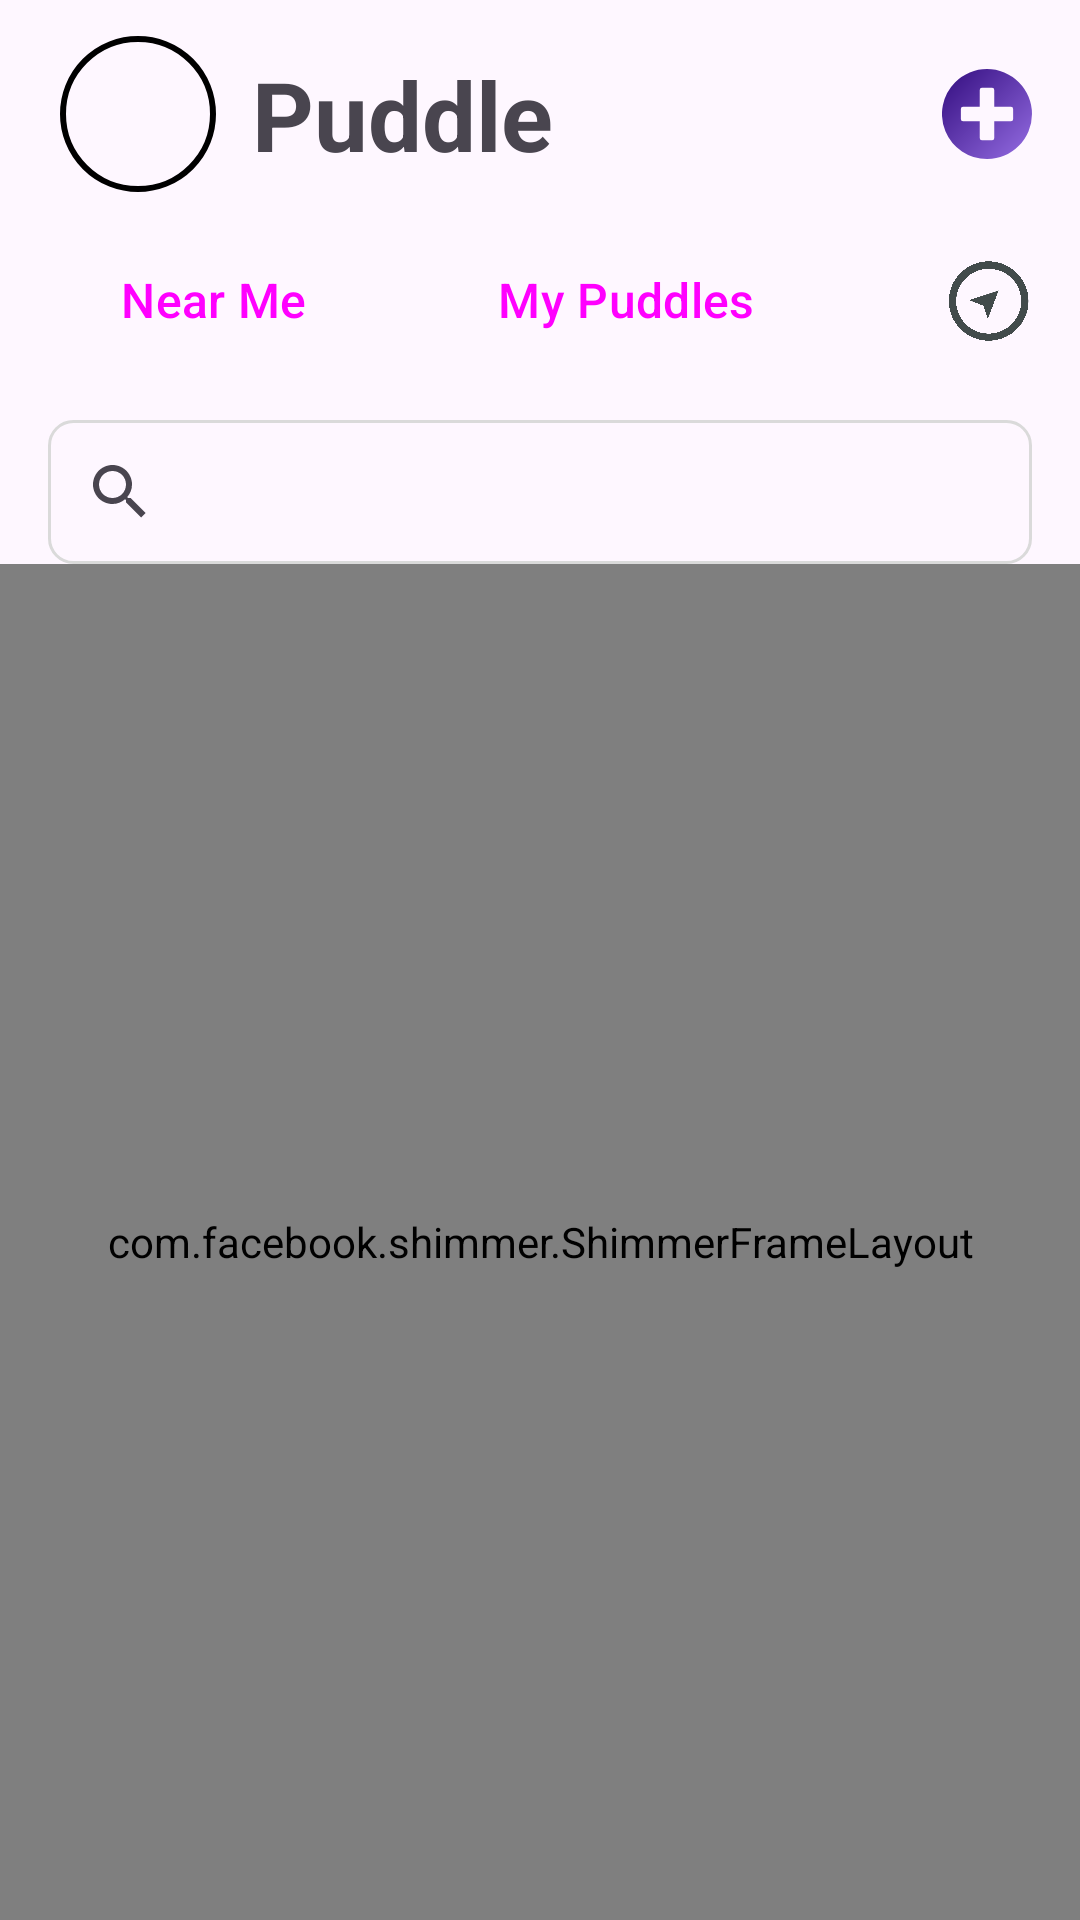

Named icons in this screenshot (1080 × 1920) and their centers, (x,y):
create: (987,114)
navigation: (989,301)
